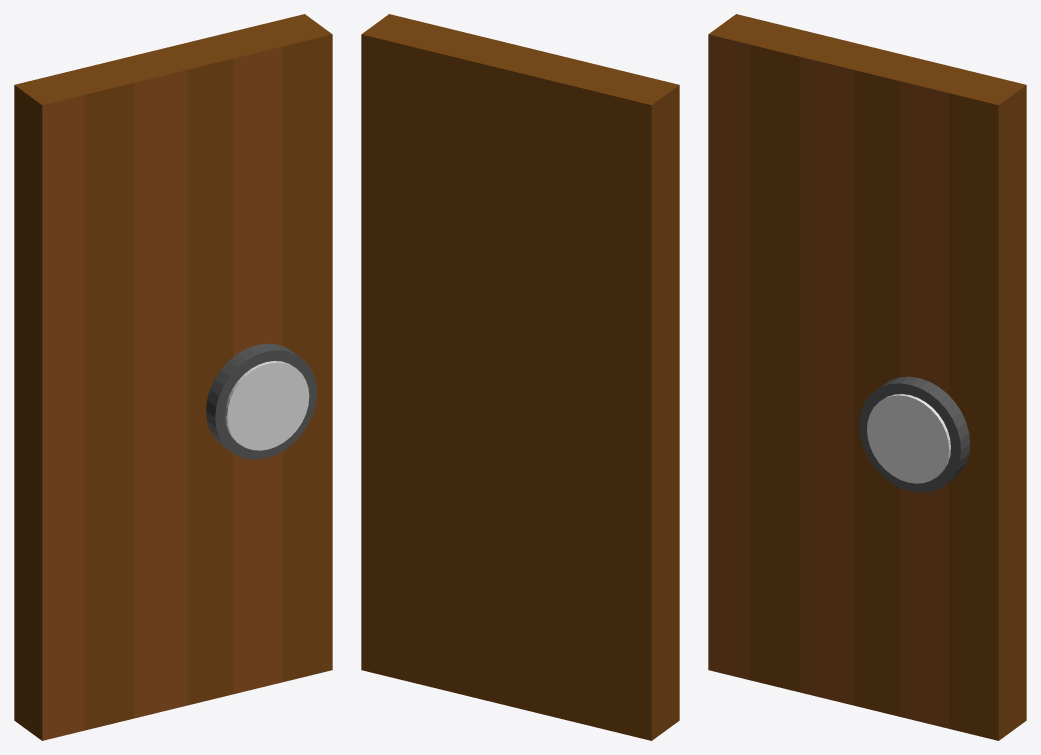
Rendered from door.glb.
3 views of the same model, side by side, from view 1: azimuth 30°, elevation 25°; view 2: azimuth 150°, elevation 25°; view 3: azimuth 330°, elevation 25° (orthographic).
Parts seen in each view (by area): view 1: Door1, Cylinder.001, Cylinder; view 2: Door1; view 3: Door1, Cylinder.001, Cylinder.
Boxes of the visible parts, x1=… form: Door1: x1=14, y1=14, x2=332, y2=740; Cylinder.001: x1=225, y1=361, x2=309, y2=450; Cylinder: x1=206, y1=343, x2=317, y2=459; Door1: x1=361, y1=14, x2=679, y2=740; Door1: x1=708, y1=14, x2=1026, y2=740; Cylinder.001: x1=867, y1=394, x2=950, y2=483; Cylinder: x1=859, y1=376, x2=970, y2=492.
Bounding box in the file's own units: 2 × 4.19 × 0.4909.
